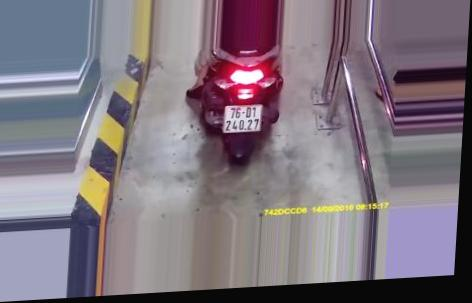License_Plate: (217, 99, 269, 139)
